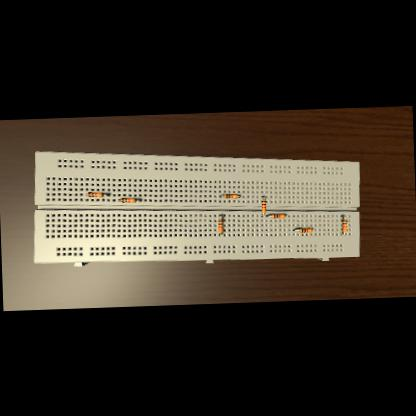breadboard: (30, 140, 364, 271)
resistor: (87, 191, 104, 197), (121, 197, 136, 203), (218, 218, 223, 233), (342, 218, 347, 232), (224, 194, 237, 198), (272, 214, 285, 218), (262, 200, 266, 212), (300, 228, 312, 232)
wire: (342, 216, 346, 219), (261, 196, 264, 199), (103, 194, 109, 195), (219, 215, 221, 218), (293, 230, 299, 231), (136, 200, 141, 201), (267, 216, 272, 217), (220, 195, 224, 196), (262, 213, 264, 215), (219, 232, 221, 234), (341, 232, 345, 233), (86, 194, 88, 194), (118, 200, 120, 200), (238, 196, 239, 196)
